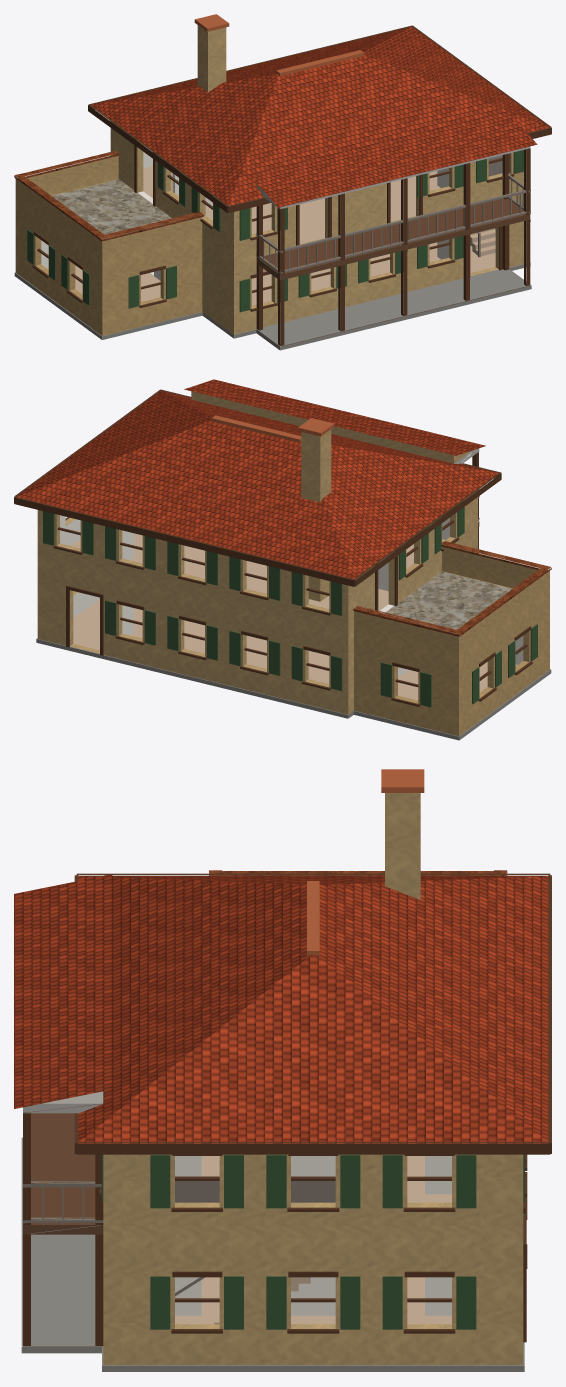
Rendered from cr-hacienda.towns-v2.lod0.glb.
3 views of the same model, one above another, from view 1: azimuth 30°, elevation 25°; view 2: azimuth 150°, elevation 25°; view 3: azimuth 270°, elevation 25° (orthographic). The views are drawn at different scales.
Visible parts, largest first — view 1: cr-hacienda; view 2: cr-hacienda; view 3: cr-hacienda.
Boxes of the visible parts, <box> form: cr-hacienda: <box>14,14,551,350</box>; cr-hacienda: <box>14,379,551,740</box>; cr-hacienda: <box>14,769,551,1371</box>.
Size of the model in its own units: 18.13 by 9.97 by 12.04.
Materials: 6 (3 with a texture image).
